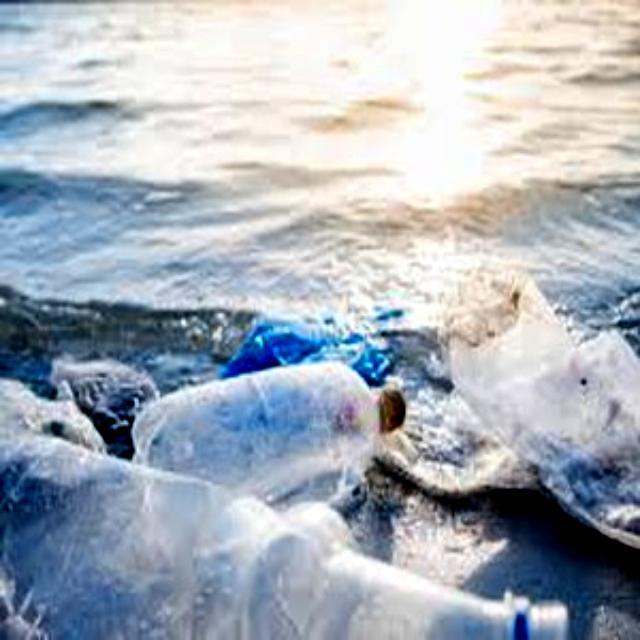Plastic: (136, 364, 407, 488)
